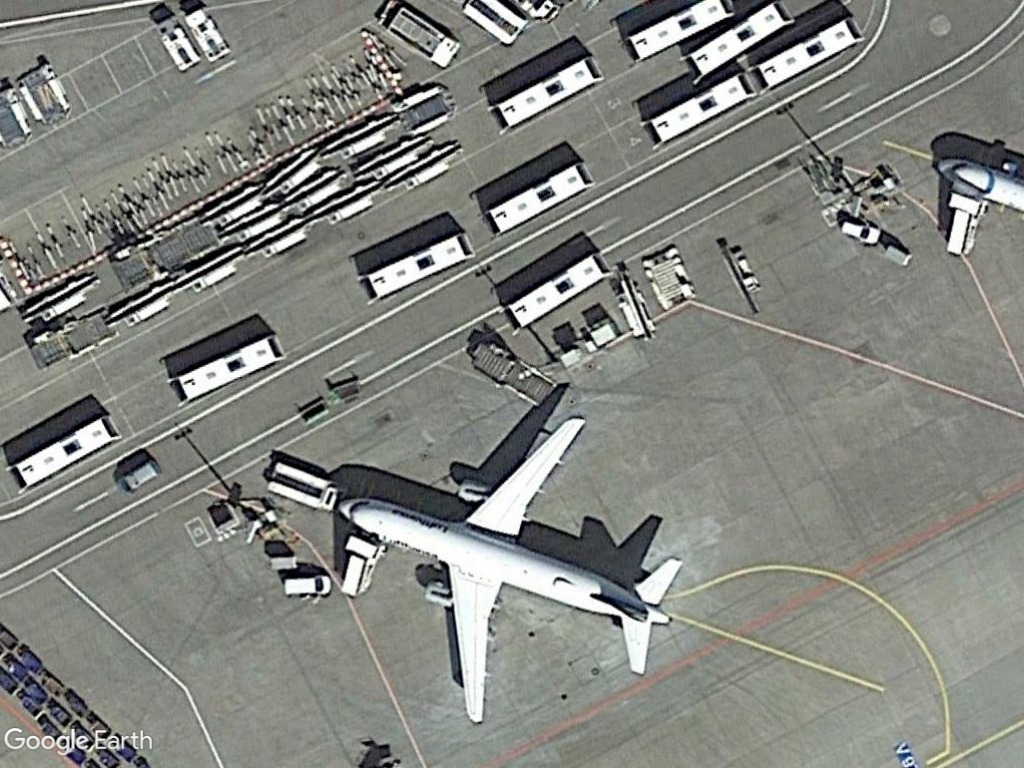airliner: (301, 398, 700, 728)
bus: (484, 50, 605, 139), (7, 409, 121, 497), (642, 69, 760, 151), (477, 158, 597, 238), (503, 248, 614, 332), (359, 229, 476, 305), (170, 329, 287, 404), (688, 0, 797, 80), (752, 16, 868, 91)
car: (838, 217, 884, 247)
pushbacktruck: (265, 455, 342, 512), (179, 5, 232, 66), (155, 23, 202, 73)
van: (277, 568, 338, 607)
